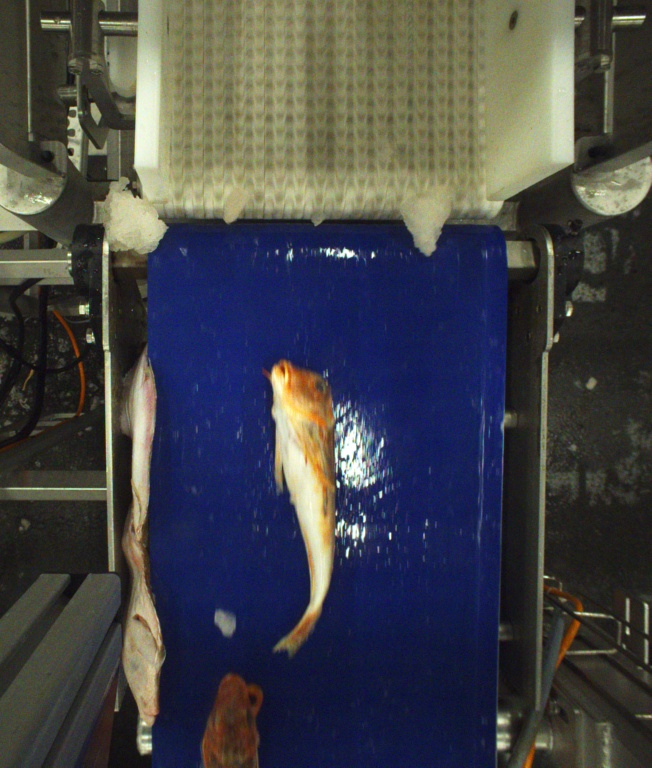GUU: (201, 673, 266, 768)
